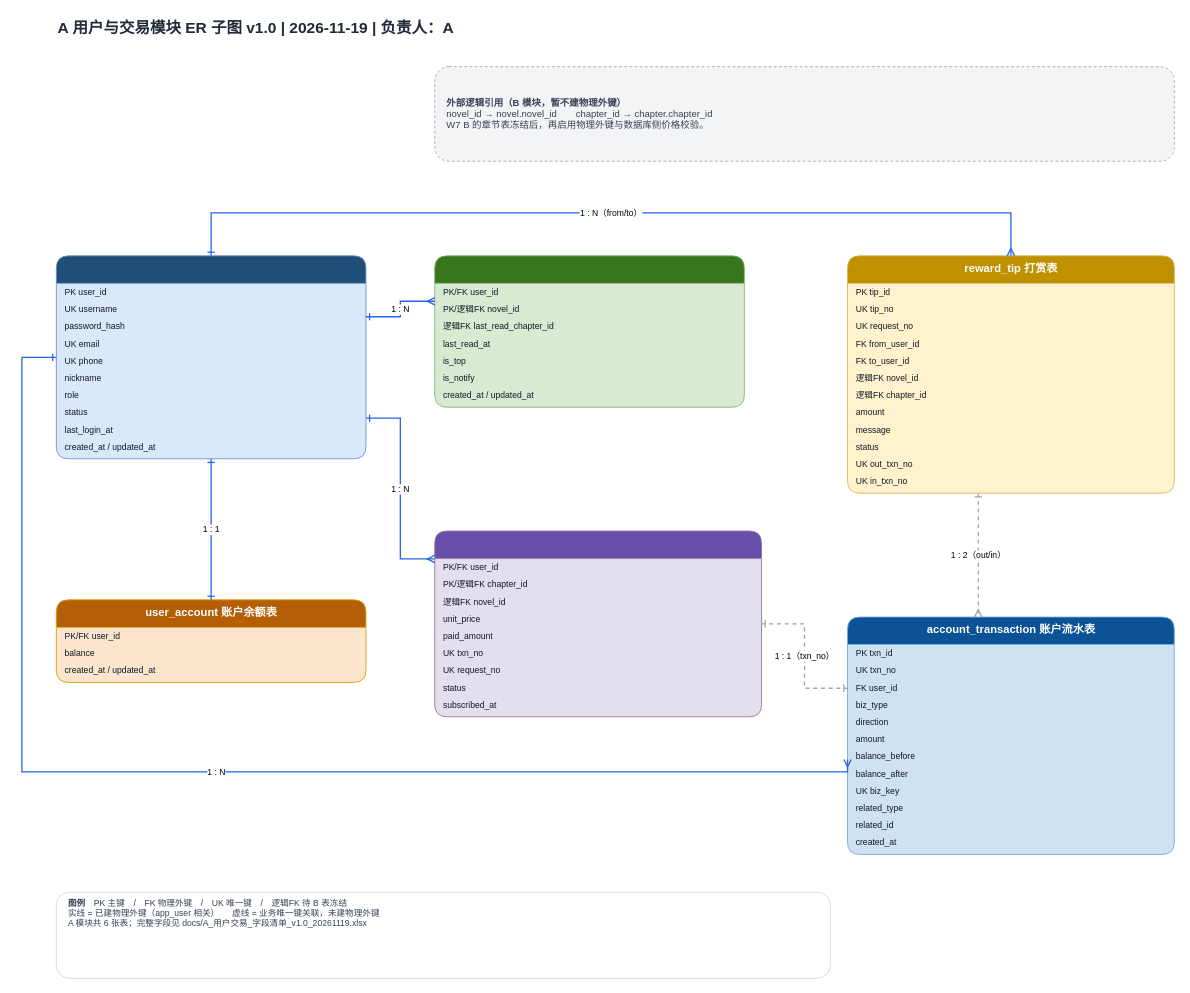
This 1190x993 diagram has some shape labels left out. Here are the shapes that lost their labels. From the top down, the box of each, then its label:
(434, 255, 744, 407): user_bookshelf 书架/收藏表
(55, 255, 366, 459): app_user 用户表
(434, 530, 762, 717): chapter_subscription 订阅记录表
